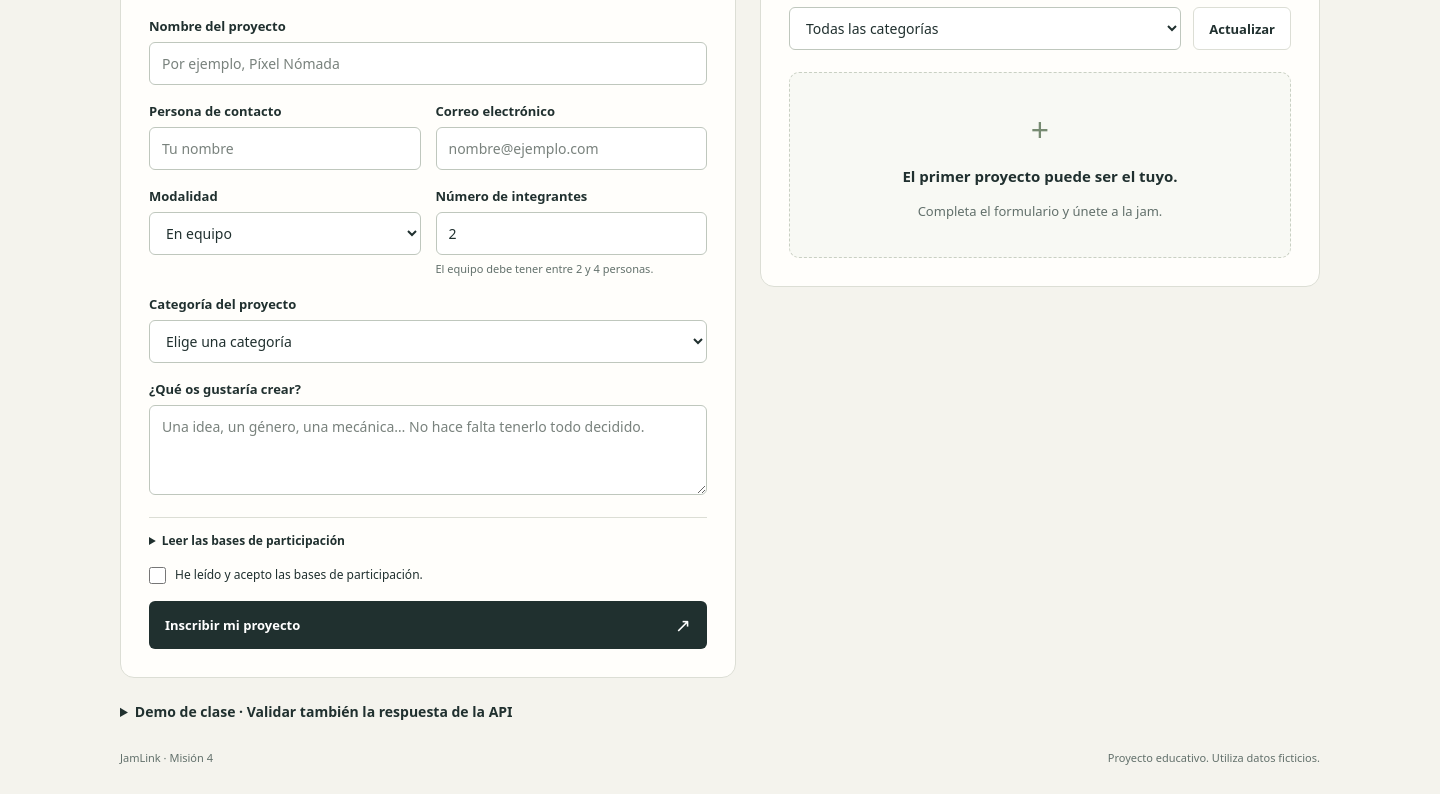
Scenario: Bonus: respuesta incorrecta de una API › no confunde un fallo de red con un bonus superado
(page scrolled)
Expected: the heading "El primer proyecto puede ser el tuyo." is shown, [902, 166, 1178, 186]
Click the heading "Demo de clase · Validar también la respuesta de la API". click: point(324, 711)
box: [135, 702, 512, 721]
(page scrolled)
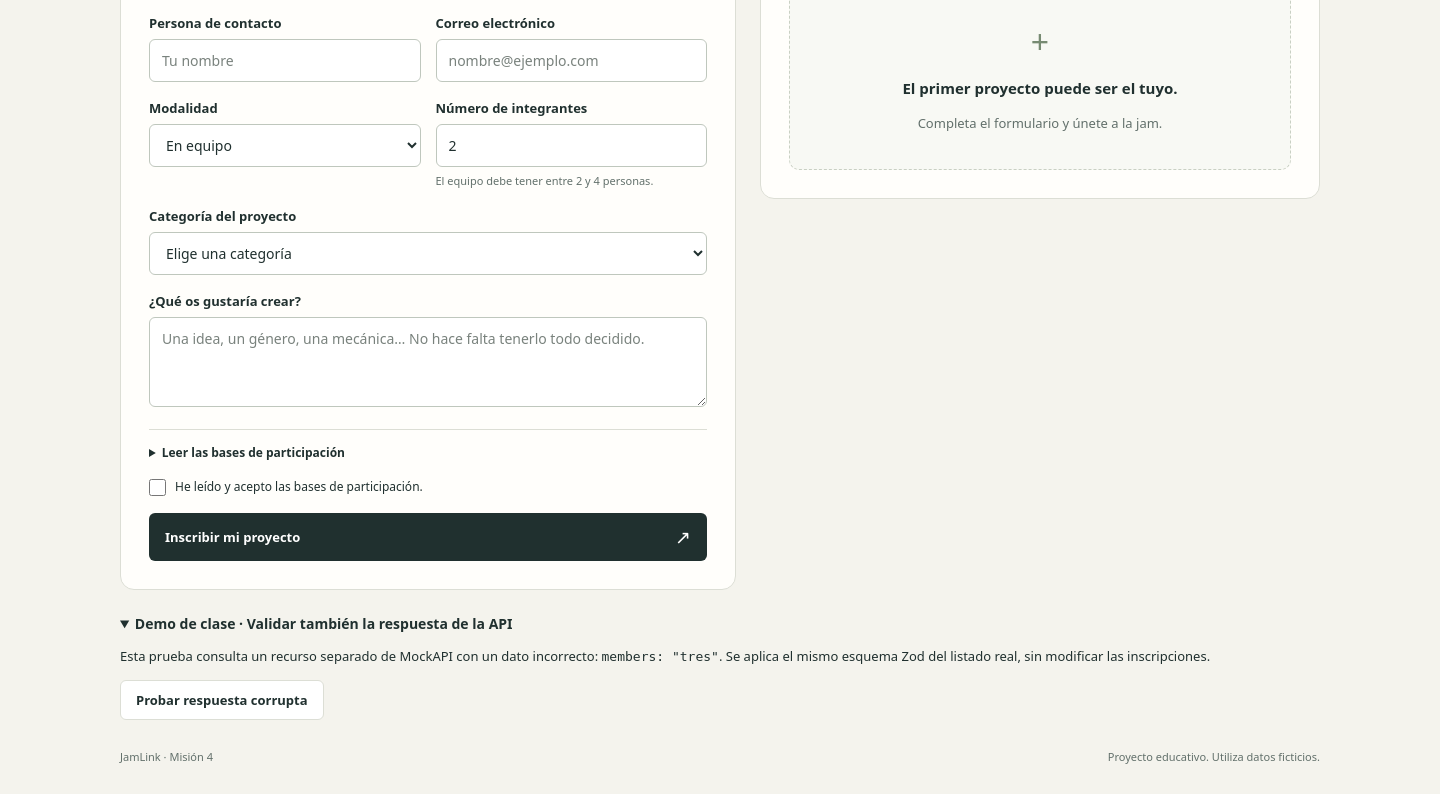
Click the button "Probar respuesta corrupta". click: point(222, 700)
box: [120, 680, 324, 720]
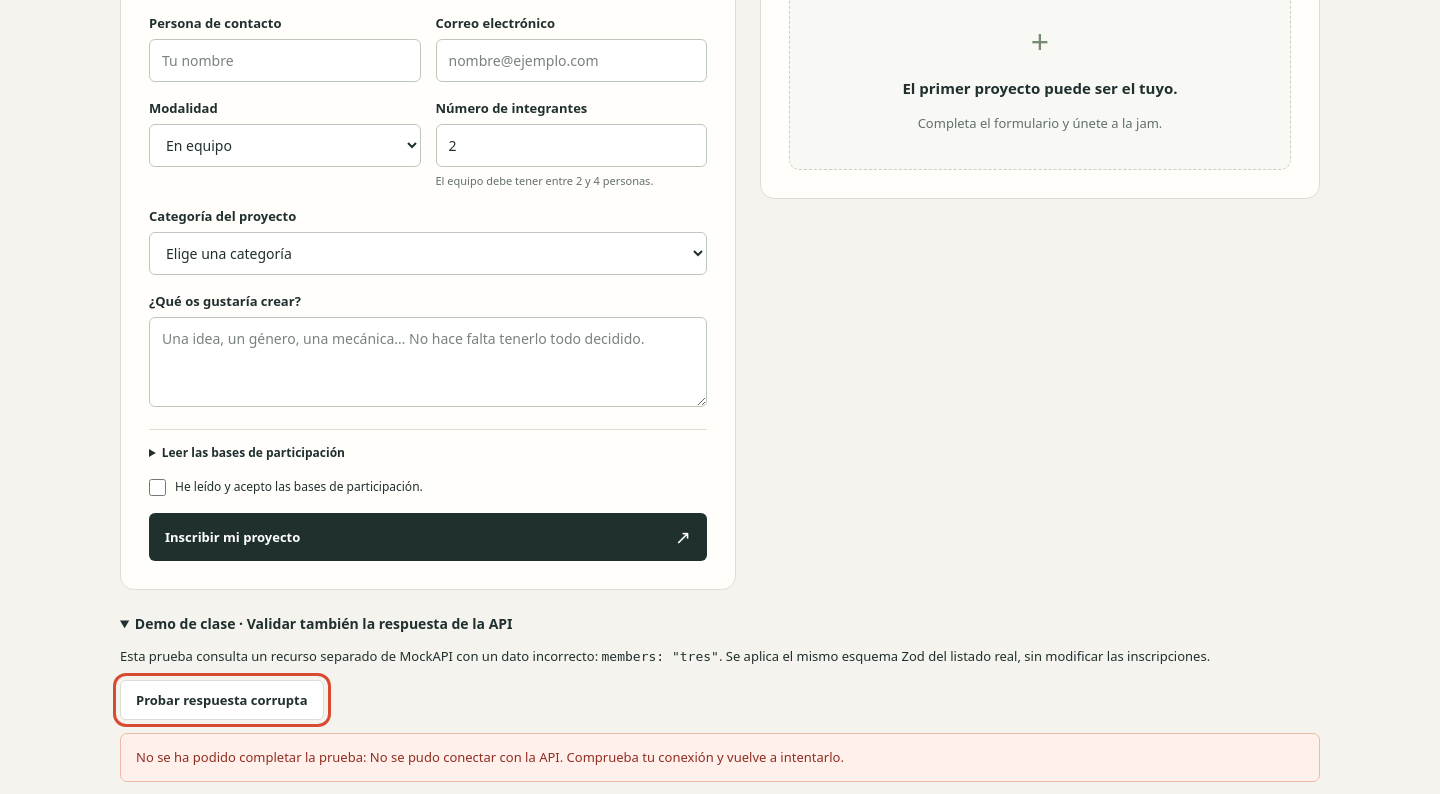
Now the message that starts with "No se ha podido completar la prueba:" is shown, box [136, 748, 370, 766]
